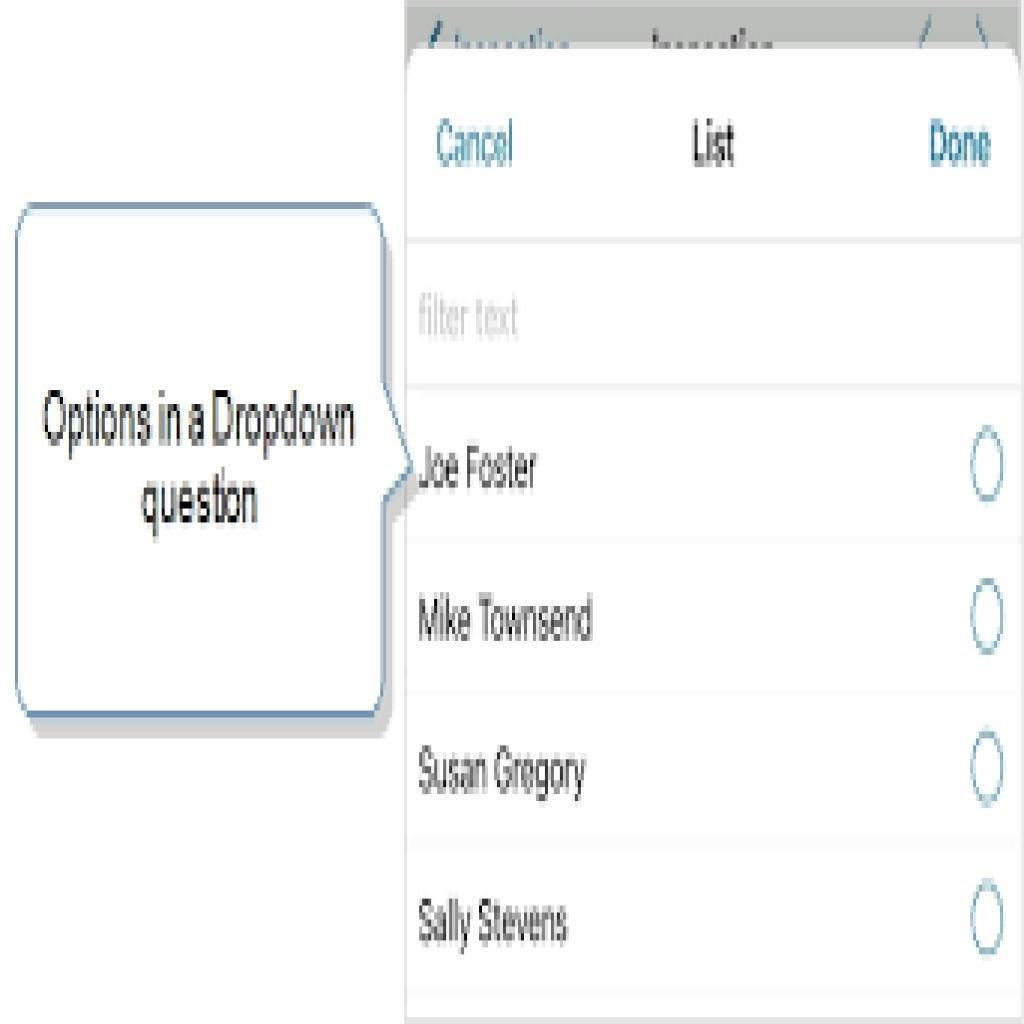label: (417, 742, 587, 809), (411, 591, 602, 649), (414, 894, 574, 960), (415, 441, 549, 497), (435, 114, 523, 175), (931, 112, 999, 173), (688, 117, 741, 174)
radio: (964, 566, 1010, 671), (966, 417, 1010, 515), (966, 876, 1011, 968), (968, 717, 1007, 811)
